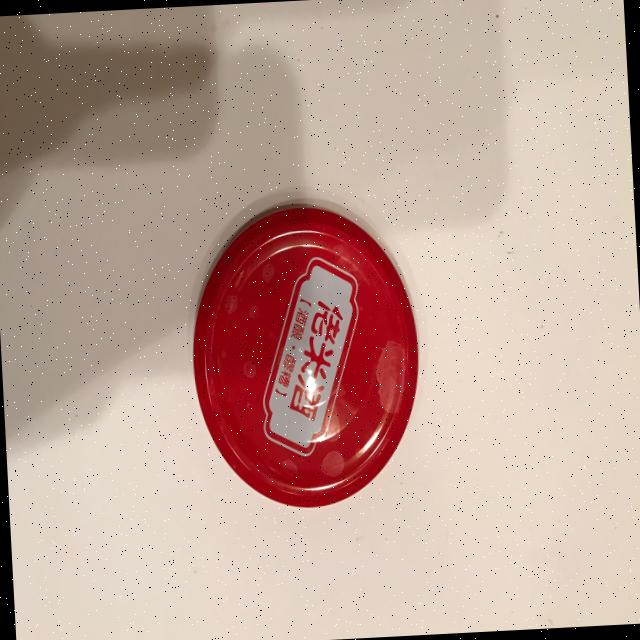metal: (184, 193, 427, 514)
